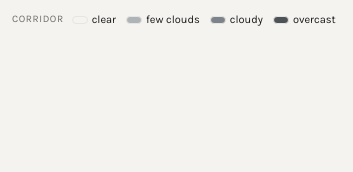
Test case: the key beside the choice › puts the description and the range under the pointer
Hover over the button "clear" at (94, 20), box [70,14,118,25]
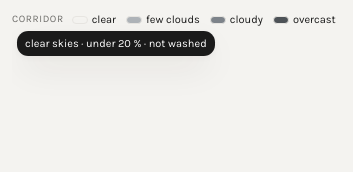
Now the tooltip shows "clear skies", box [25,37,207,50]
